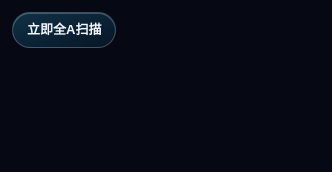
Test: Zero-Clipping SafeText, AsyncGlassButton & Decoupled Pitfall Badges › transitions AsyncGlassButton smoothly through idle -> loading -> success
The width and height of the screenshot is (332, 172).
Later steps or results of the test are not shown.
Click the button "立即全A扫描".
click(64, 30)  # box [12,12,116,48]
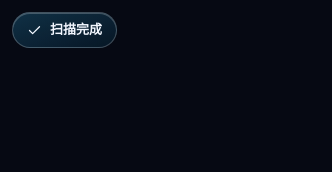
Expected: the button "扫描完成" has attribute data-async-state="success", [12,12,117,48]
